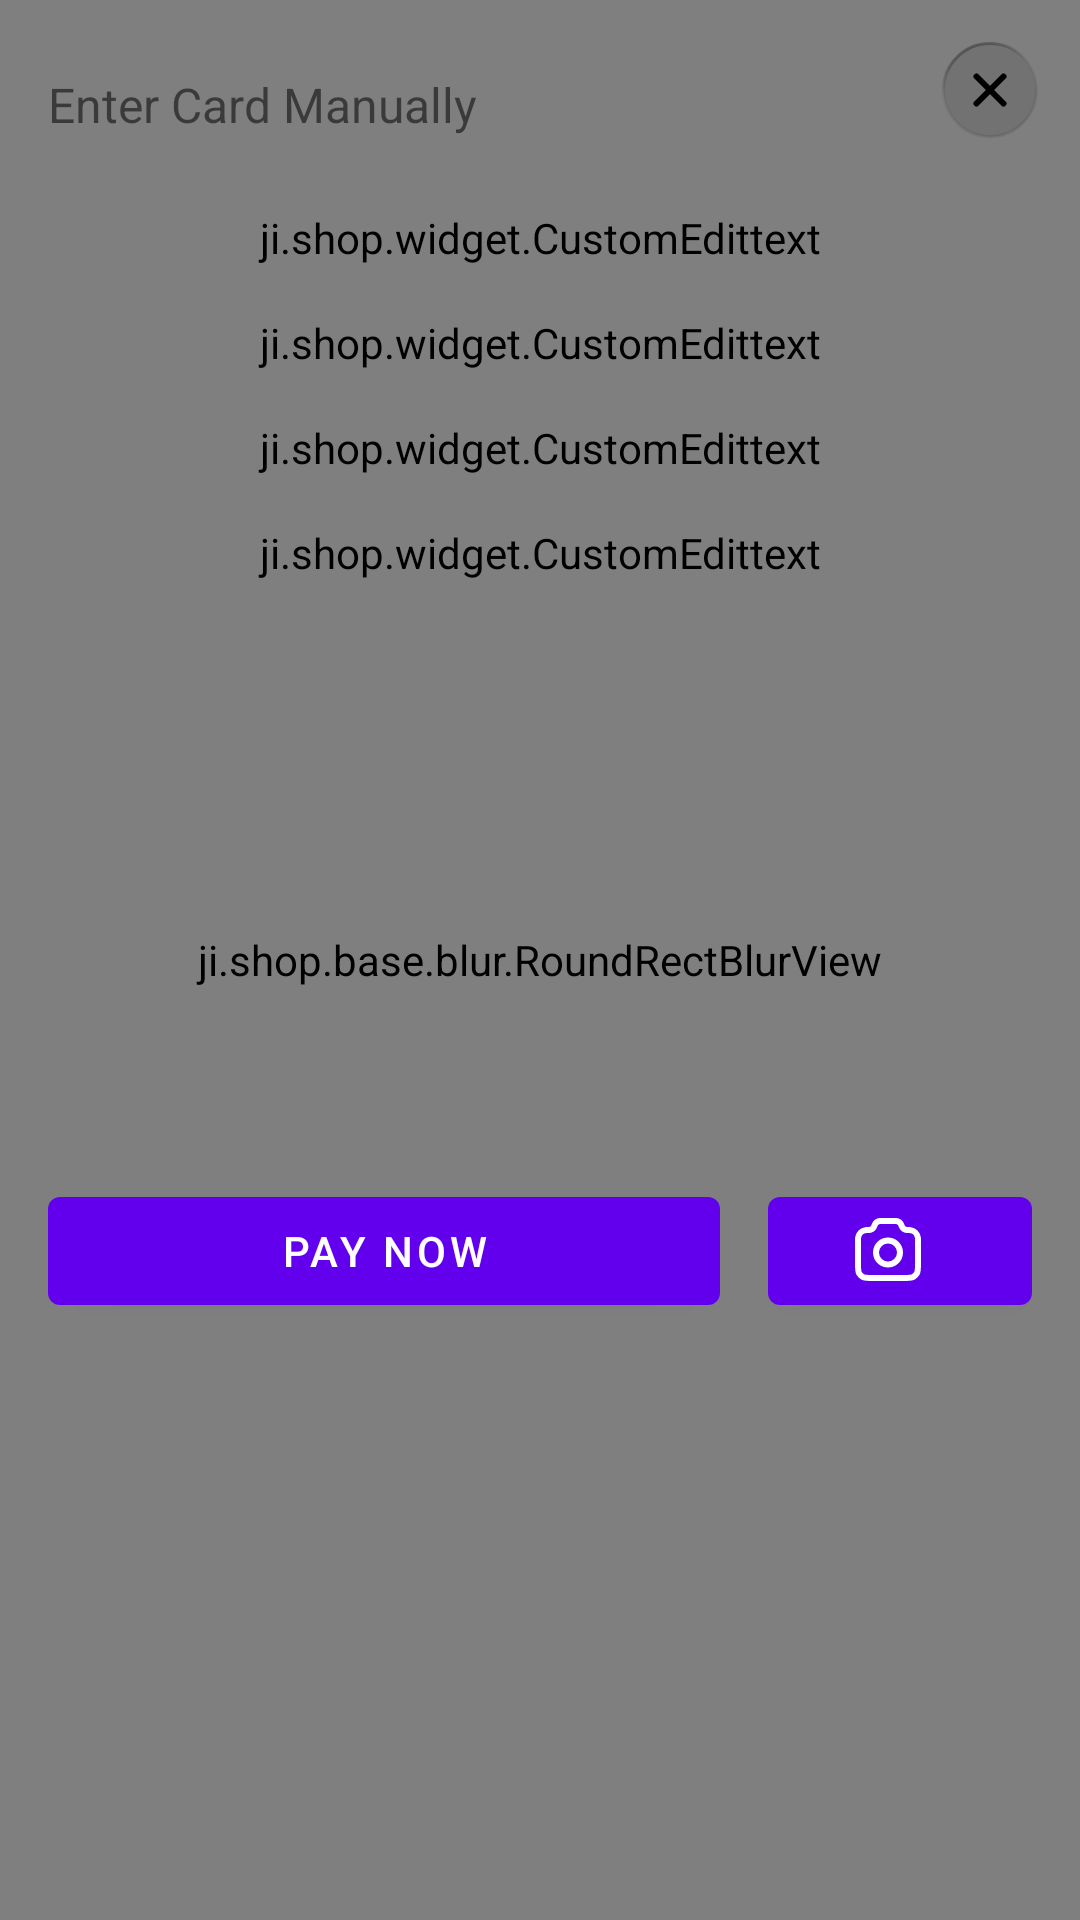

Icon bounding boxes for this 1080*1920 phone screenshot, format BBox(x1, y1, x2, y2):
camera: BBox(768, 1197, 1032, 1305)
close: BBox(942, 42, 1037, 138)
